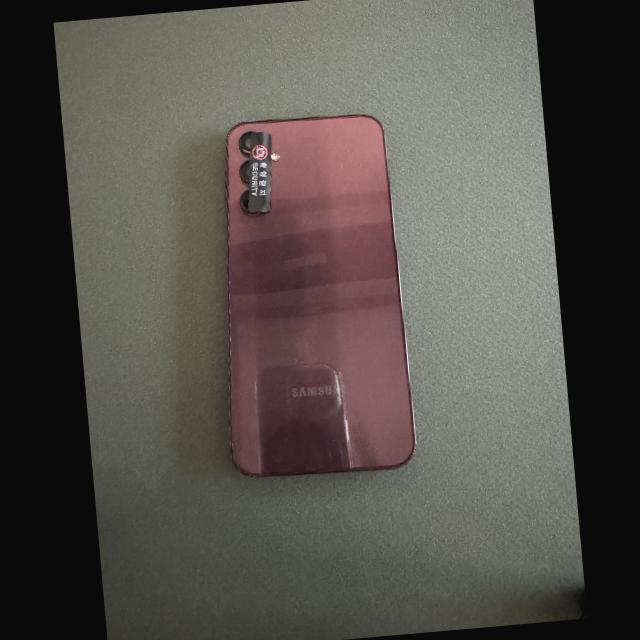lens: (240, 189, 263, 216), (237, 131, 254, 159), (241, 161, 249, 183)
phone: (225, 114, 415, 476)
sticker: (248, 132, 271, 212)
